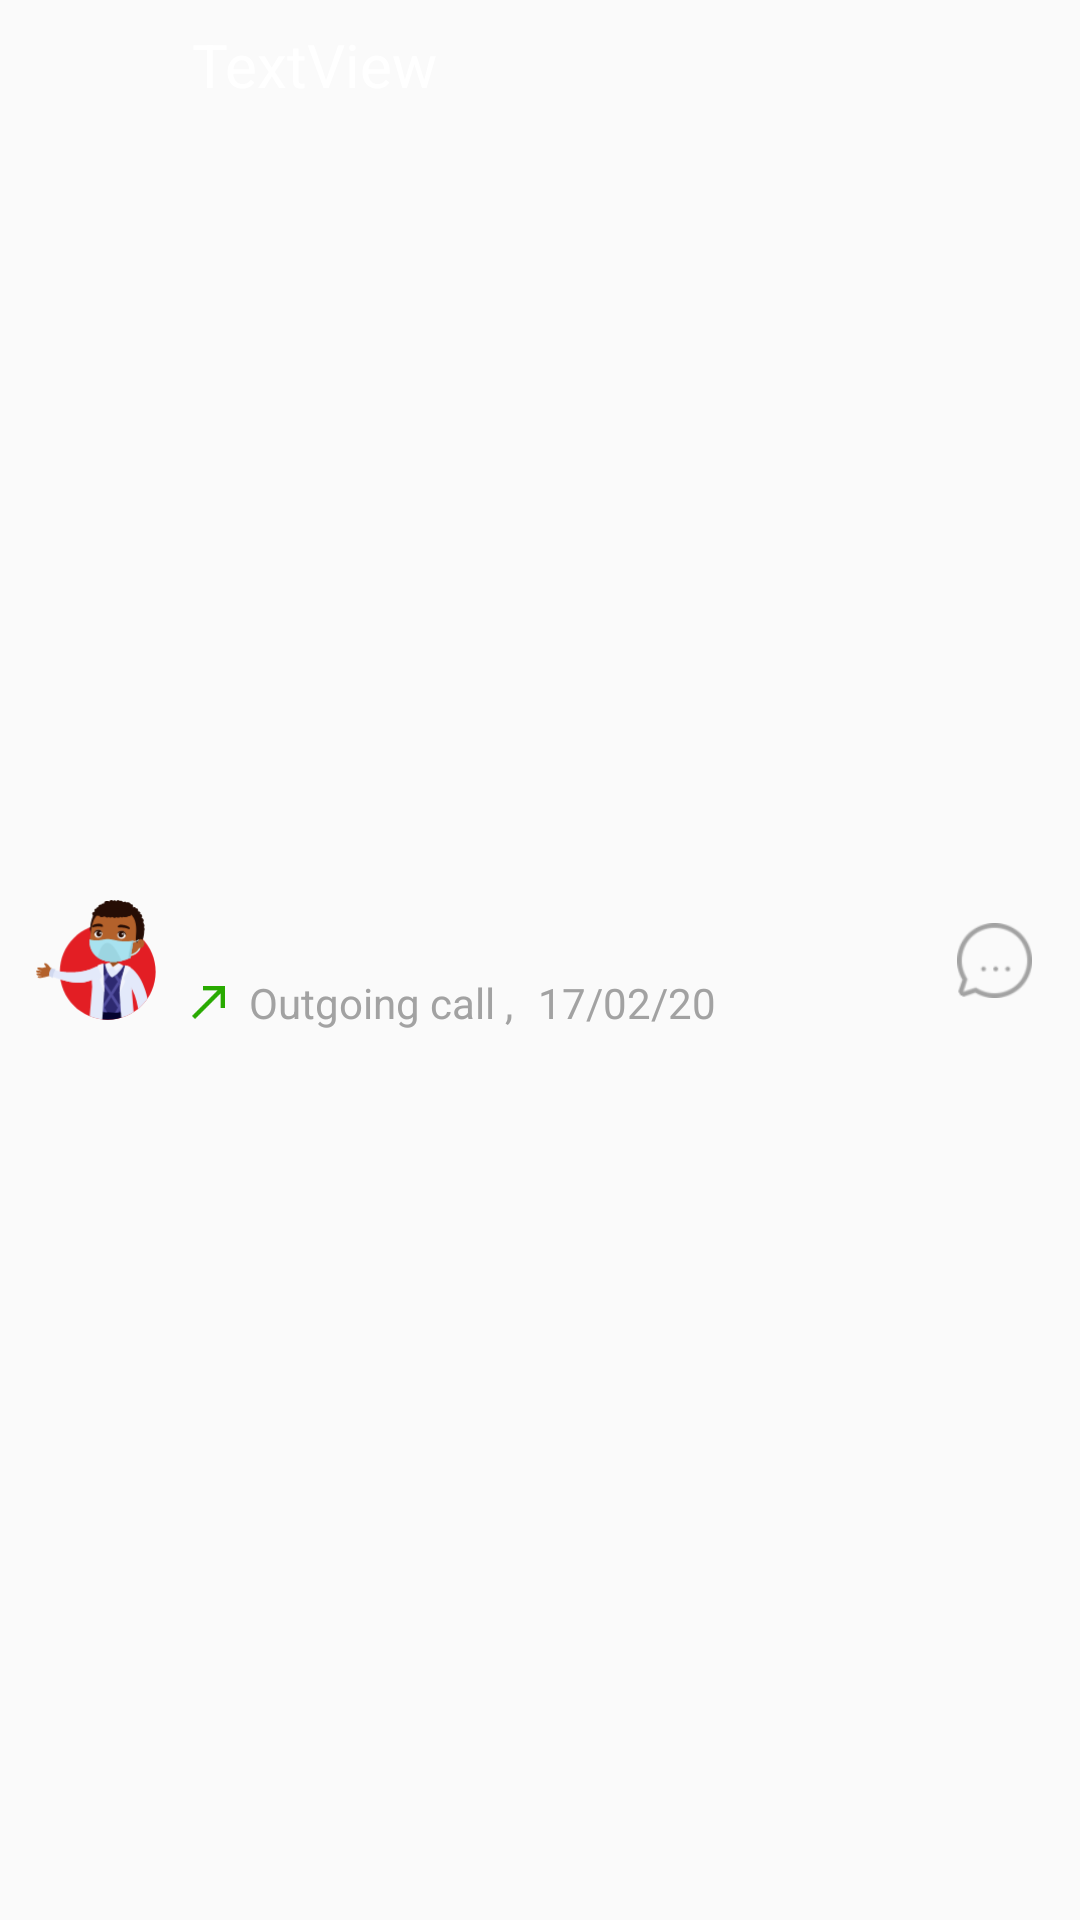

Named icons in this screenshot (1080px x 1920px) and their bounding boxes, (x1, y1, x2, y2):
call made: (192, 986, 225, 1019)
message: (957, 923, 1032, 998)
user: (36, 900, 156, 1020)
